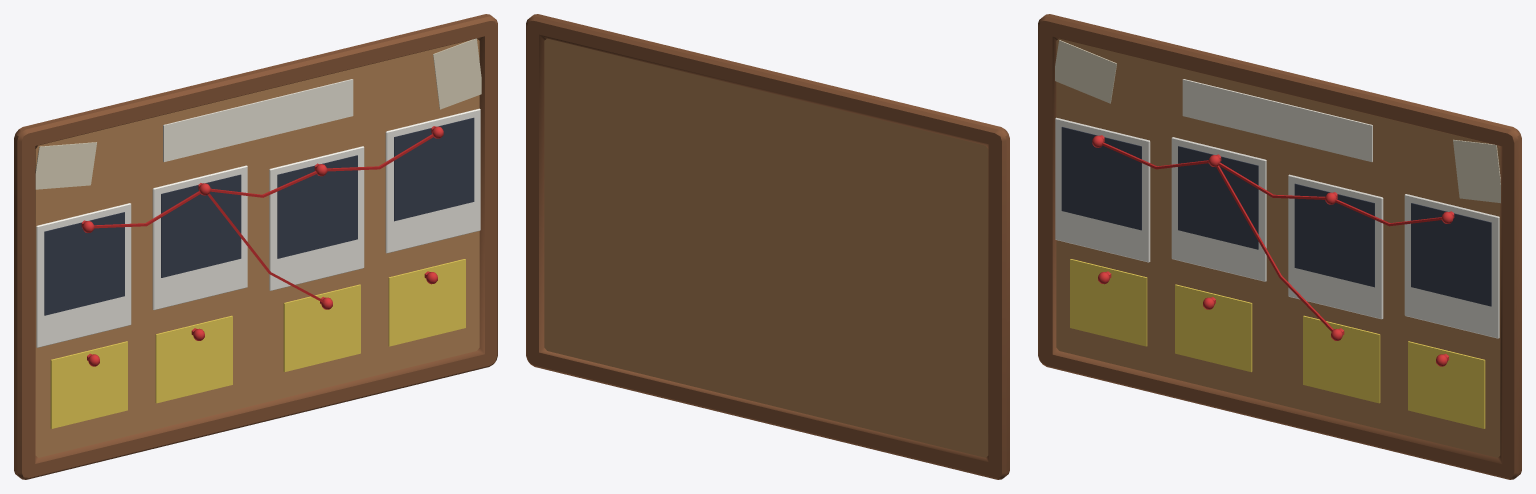
Rendered from Shop_PhotoBoard.fbx.
The picture shows the model from 3 angles, left to right: view 1: azimuth 30°, elevation 25°; view 2: azimuth 150°, elevation 25°; view 3: azimuth 330°, elevation 25°; orthographic projection.
Parts seen in each view (by area): view 1: Cork, Frame, Cards, Label, Photo1, Photo4, Photo3, Photo2, Note1, Note4, Note2, Note3 (+3 smaller); view 2: Cork, Frame; view 3: Cork, Frame, Cards, Label, Photo4, Photo1, Photo3, Photo2, Note2, Note4, Note1, Note3 (+3 smaller).
Part boxes in pixels (bbox=[...]): Cork: bbox=[35, 39, 479, 457]; Frame: bbox=[14, 14, 497, 479]; Cards: bbox=[36, 108, 480, 347]; Label: bbox=[163, 79, 353, 161]; Photo1: bbox=[44, 212, 124, 315]; Photo4: bbox=[394, 117, 474, 221]; Photo3: bbox=[277, 155, 357, 258]; Photo2: bbox=[161, 174, 241, 277]; Note1: bbox=[50, 341, 127, 428]; Note4: bbox=[388, 259, 465, 346]; Note2: bbox=[155, 315, 232, 403]; Note3: bbox=[283, 284, 360, 372]; Cork: bbox=[544, 38, 988, 457]; Frame: bbox=[526, 14, 1009, 479]; Cork: bbox=[1056, 38, 1500, 457]; Frame: bbox=[1038, 14, 1521, 479]; Cards: bbox=[1055, 117, 1499, 338]; Label: bbox=[1182, 79, 1372, 161]; Photo4: bbox=[1411, 203, 1491, 306]; Photo1: bbox=[1061, 127, 1141, 230]; Photo3: bbox=[1294, 183, 1374, 287]; Photo2: bbox=[1178, 146, 1258, 249]; Note2: bbox=[1175, 284, 1252, 372]; Note4: bbox=[1408, 341, 1485, 428]; Note1: bbox=[1070, 259, 1147, 346]; Note3: bbox=[1303, 315, 1380, 403].
Bounding box in the file's own units: 660 × 460 × 32.13.
